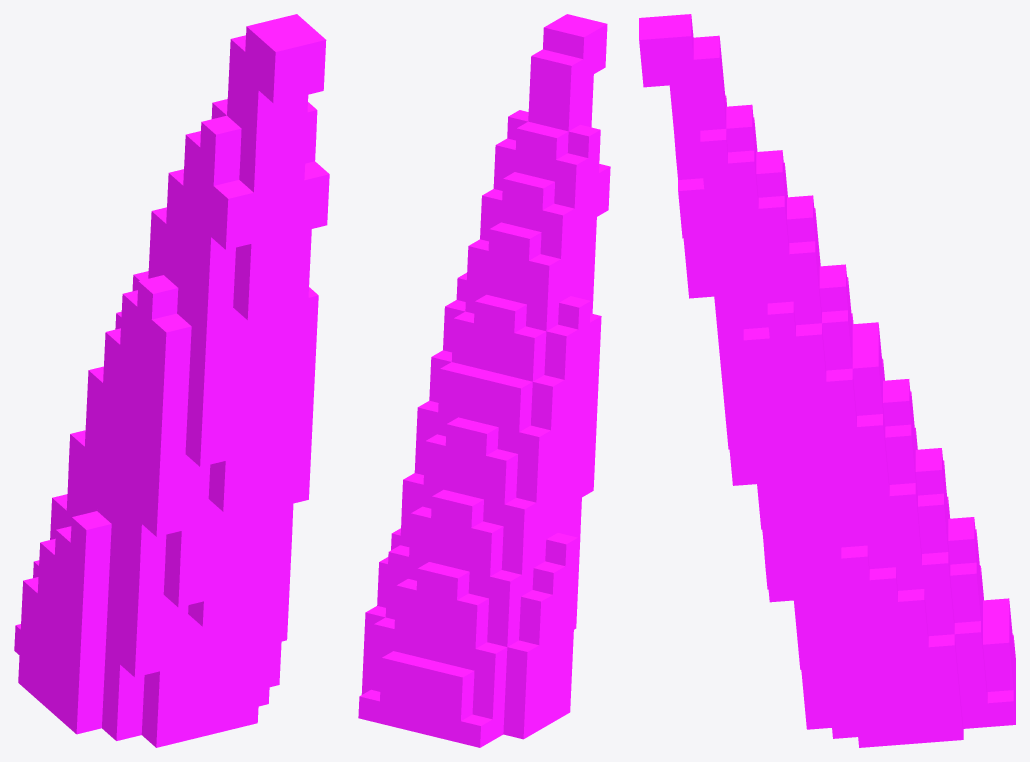
File: purple.gltf
3 views of the same model, side by side, from view 1: azimuth 30°, elevation 25°; view 2: azimuth 150°, elevation 25°; view 3: azimuth 270°, elevation 25° (orthographic). The views are drawn at different scales.
Visible parts, largest first — view 1: 角.1; view 2: 角.1; view 3: 角.1.
Boxes of the visible parts, left/top/right/bottom form: 角.1: left=14, top=14, right=329, bottom=747; 角.1: left=358, top=14, right=610, bottom=747; 角.1: left=639, top=14, right=1015, bottom=747.
Bounding box in the file's own units: 0.9601 × 3.45 × 1.72.
